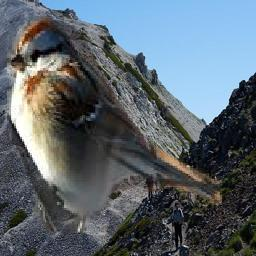Sparrow: (8, 17, 223, 234)
